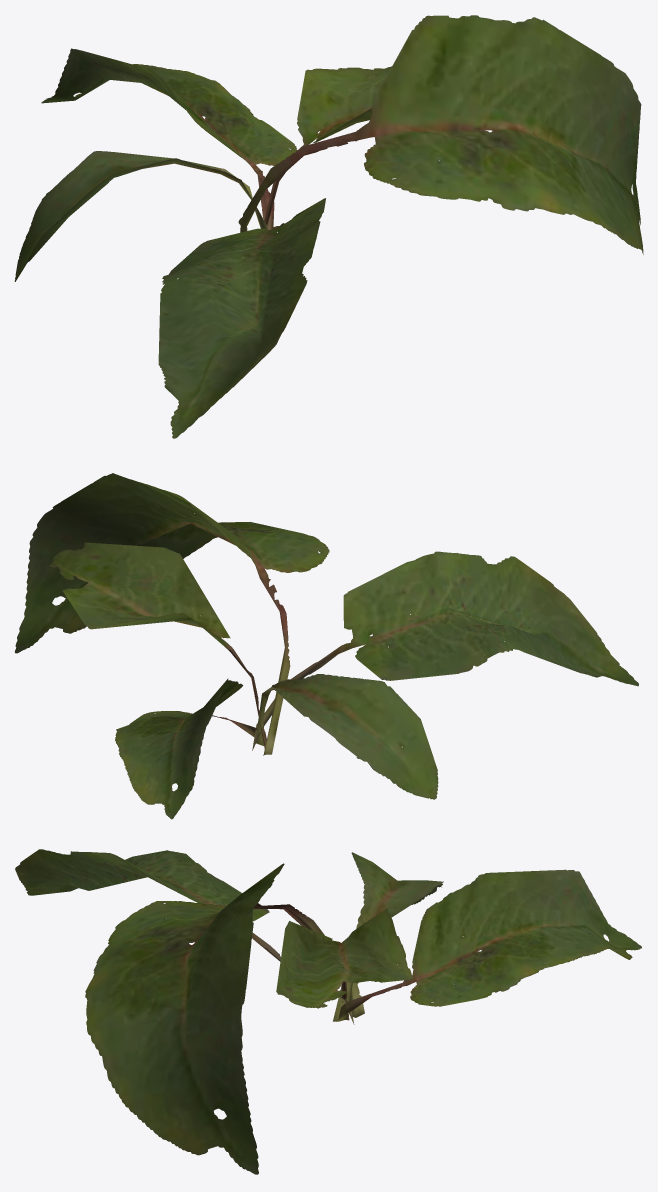
The picture shows the model from 3 angles, top to bottom: view 1: azimuth 30°, elevation 25°; view 2: azimuth 150°, elevation 25°; view 3: azimuth 270°, elevation 25°; orthographic projection. The views are drawn at different scales.
Visible parts, largest first — view 1: weed_plant_02__c_lod1; view 2: weed_plant_02__c_lod1; view 3: weed_plant_02__c_lod1.
Boxes of the visible parts, x1,y1,x2,y2 form: weed_plant_02__c_lod1: (14,15,643,438); weed_plant_02__c_lod1: (15,473,638,819); weed_plant_02__c_lod1: (15,849,641,1174).
Bounding box in the file's own units: 0.147 × 0.0578 × 0.1468.
Materials: 1 (1 with a texture image).
